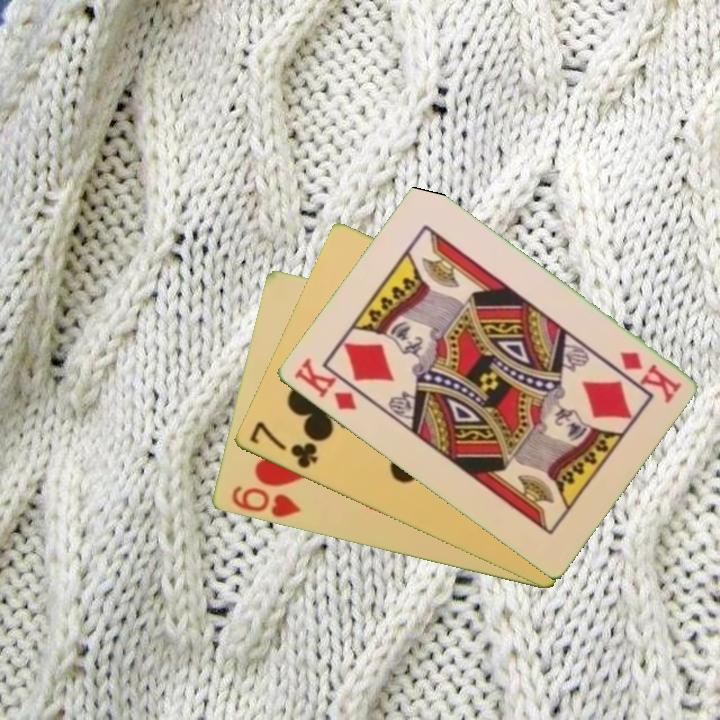6h: (227, 482, 303, 521)
7c: (245, 418, 320, 472)
Kd: (290, 354, 360, 414), (615, 348, 684, 405)
